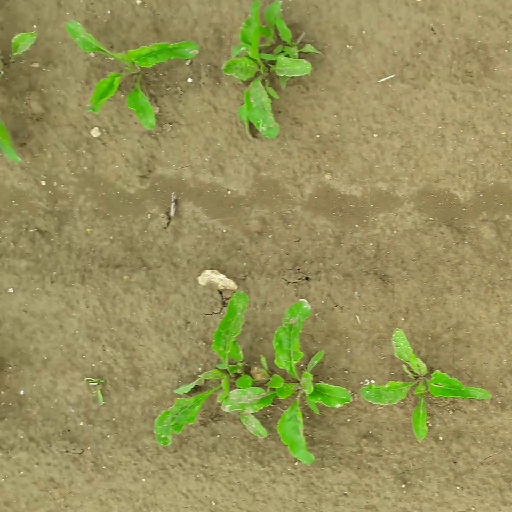sugarbeet: (226, 296, 355, 464), (149, 288, 256, 448), (56, 19, 201, 132), (357, 327, 495, 445), (222, 1, 324, 139)
weed: (263, 7, 321, 86)
